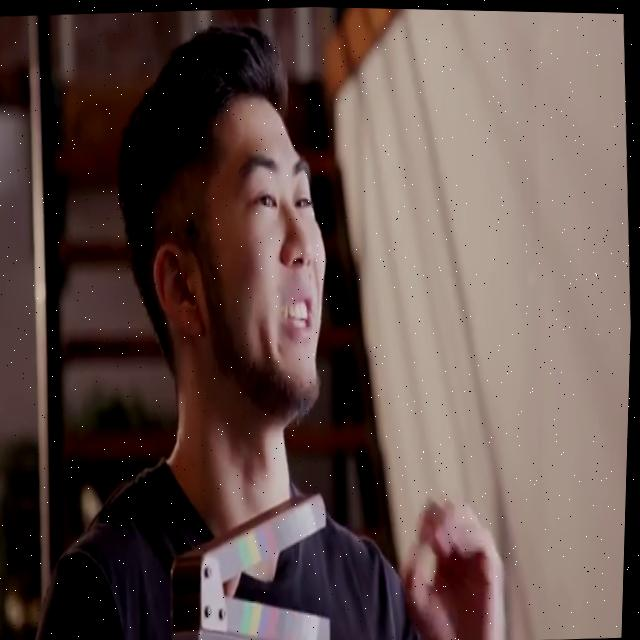Clapperboard: (158, 481, 341, 640)
